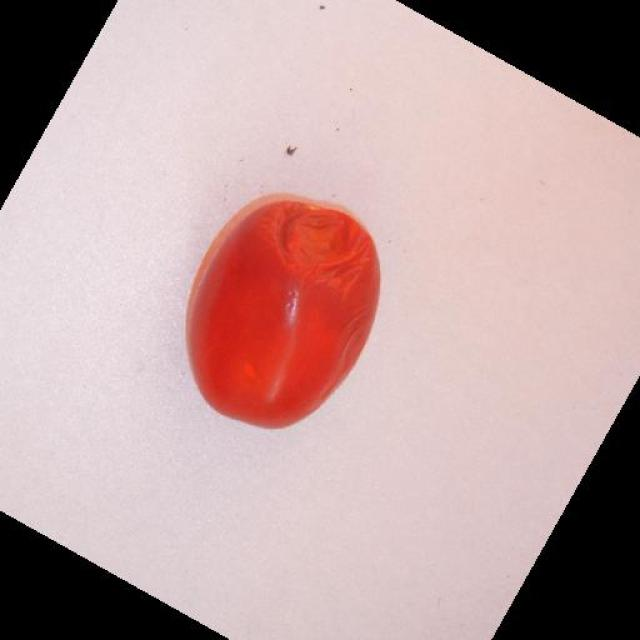Stale_tomato: (193, 168, 397, 471)
